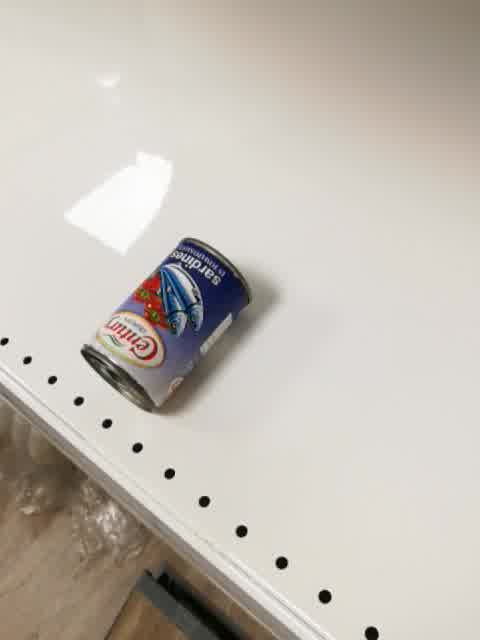sardine: (77, 233, 255, 415)
